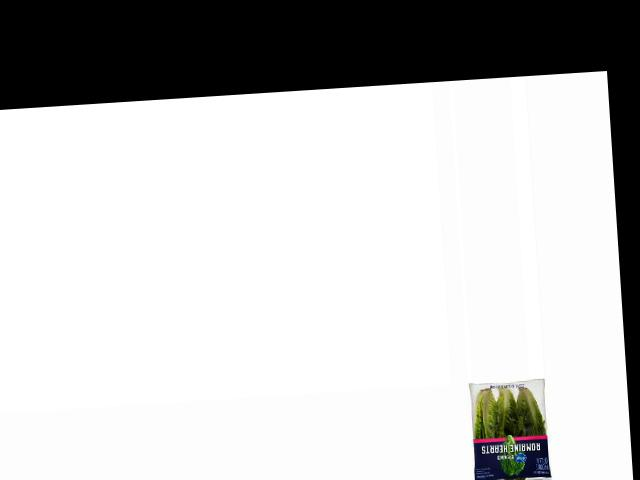lettuce: (464, 381, 555, 480)
